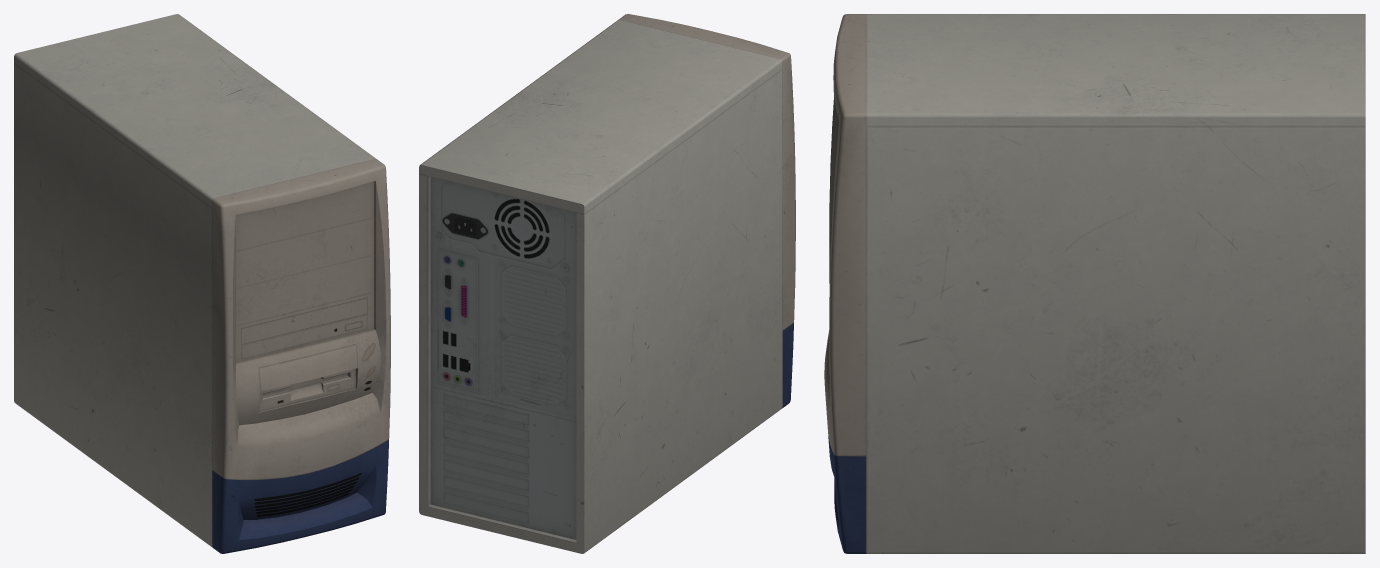
Rendered from pc_case.glb.
3 renders of one model, left to right at view 1: azimuth 30°, elevation 25°; view 2: azimuth 150°, elevation 25°; view 3: azimuth 270°, elevation 25°, orthographic. The views are drawn at different scales.
Parts seen in each view (by area): view 1: pc_mesh; view 2: pc_mesh; view 3: pc_mesh.
Boxes of the visible parts, x1,y1,x2,y2 form: pc_mesh: (14,14,390,553); pc_mesh: (419,14,795,553); pc_mesh: (824,14,1365,553).
Bounding box in the file's own units: 0.2277 × 0.4604 × 0.5125.
Materials: 1 (1 with a texture image).
